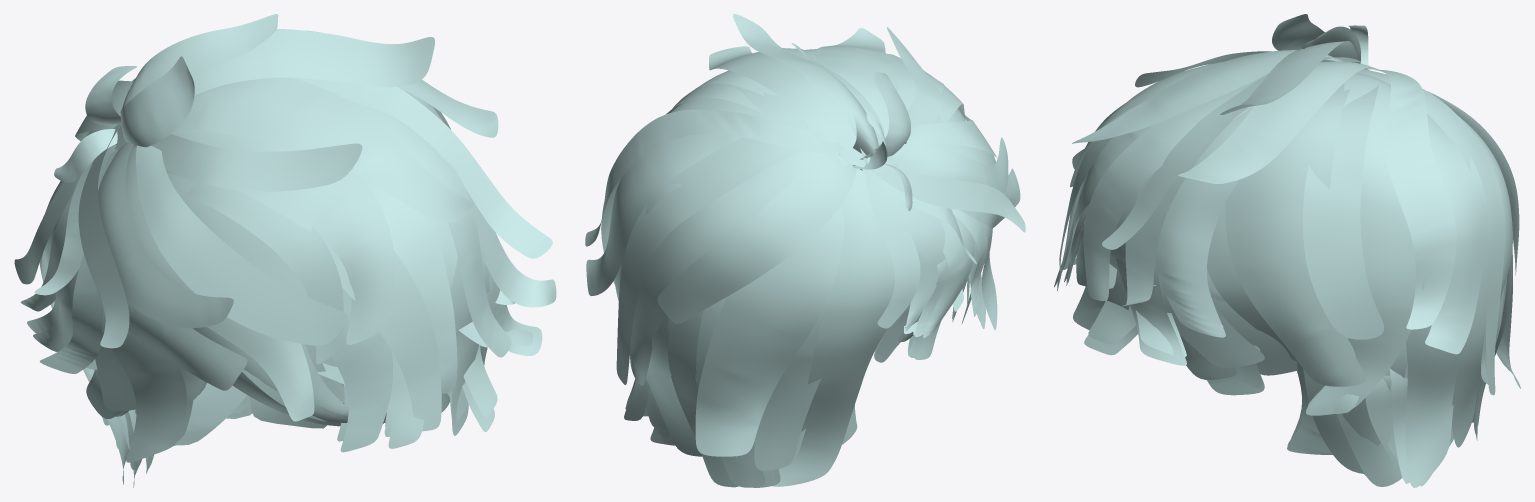
File: Hair.fbx
The picture shows the model from 3 angles, left to right: view 1: azimuth 30°, elevation 25°; view 2: azimuth 150°, elevation 25°; view 3: azimuth 270°, elevation 25°; orthographic projection. The views are drawn at different scales.
Visible parts, largest first — view 1: Short hair card.001, Caps; view 2: Short hair card.001, Caps; view 3: Short hair card.001, Caps.
Boxes of the visible parts, box(x1,y1,x2,y2) form: Short hair card.001: box(14, 14, 556, 484); Caps: box(86, 290, 533, 487); Short hair card.001: box(585, 14, 1025, 487); Caps: box(625, 266, 985, 464); Short hair card.001: box(1054, 14, 1520, 487); Caps: box(1064, 208, 1409, 483).
Bounding box in the file's own units: 44.11 × 47.06 × 48.87.
